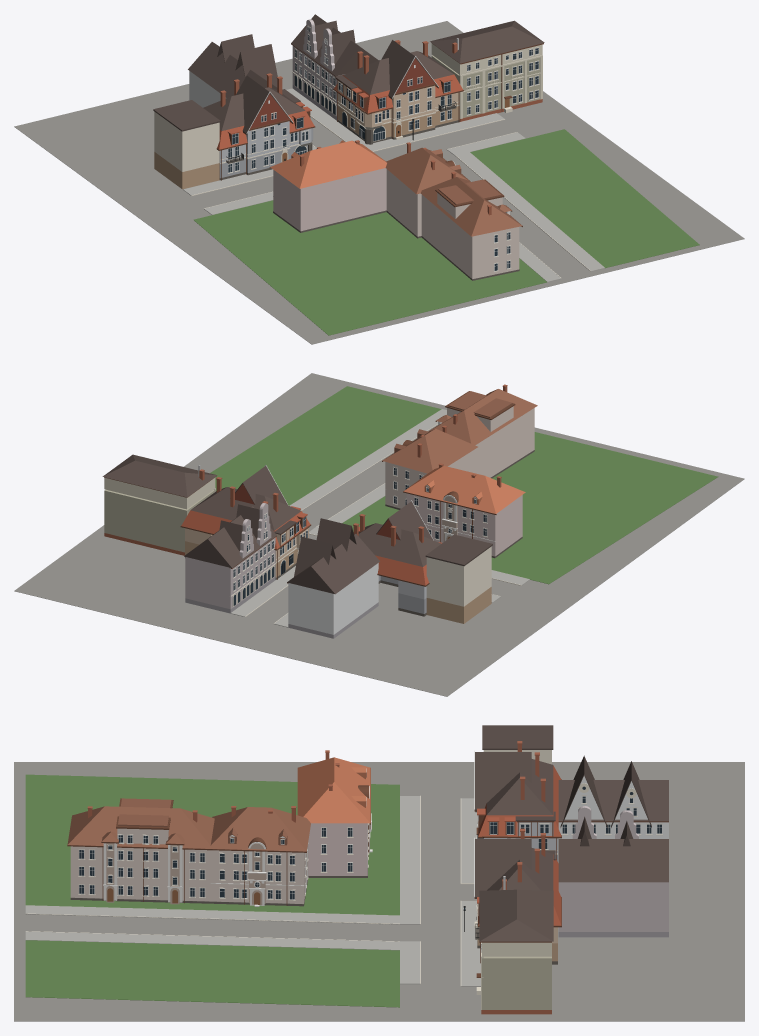
Rendered from skrzyzowanie.glb.
3 views of the same model, one above another, from view 1: azimuth 30°, elevation 25°; view 2: azimuth 150°, elevation 25°; view 3: azimuth 270°, elevation 25° (orthographic). The views are drawn at different scales.
Visible parts, largest first — view 1: Streets, Mickiewicza_45, Mickiewicza_42, Mickiewicza_43, Kochanowskiego_79b_79c, Mickiewicza_47, Mickiewicza_49, Kochanowskiego_76, Kochanowskiego_75, Kochanowskiego_79a; view 2: Streets, Kochanowskiego_75, Mickiewicza_43, Mickiewicza_42, Kochanowskiego_76, Kochanowskiego_79b_79c, Mickiewicza_45, Mickiewicza_47, Mickiewicza_49, Kochanowskiego_79a; view 3: Streets, Kochanowskiego_79b_79c, Kochanowskiego_76, Kochanowskiego_79a, Mickiewicza_43, Mickiewicza_42, Mickiewicza_47, Kochanowskiego_75, Mickiewicza_45, Mickiewicza_49.
Boxes of the visible parts, x1=… form: Streets: x1=14, y1=21, x2=744, y2=344; Mickiewicza_45: x1=333, y1=40, x2=463, y2=144; Mickiewicza_42: x1=269, y1=140, x2=386, y2=232; Mickiewicza_43: x1=430, y1=20, x2=544, y2=121; Kochanowskiego_79b_79c: x1=420, y1=172, x2=522, y2=280; Mickiewicza_47: x1=203, y1=73, x2=315, y2=180; Mickiewicza_49: x1=153, y1=100, x2=220, y2=189; Kochanowskiego_76: x1=291, y1=14, x2=378, y2=120; Kochanowskiego_75: x1=188, y1=34, x2=277, y2=107; Kochanowskiego_79a: x1=385, y1=142, x2=469, y2=238; Streets: x1=14, y1=373, x2=744, y2=696; Kochanowskiego_75: x1=287, y1=518, x2=379, y2=638; Mickiewicza_43: x1=102, y1=454, x2=217, y2=555; Mickiewicza_42: x1=403, y1=463, x2=525, y2=558; Kochanowskiego_76: x1=184, y1=503, x2=276, y2=613; Kochanowskiego_79b_79c: x1=428, y1=384, x2=537, y2=478; Mickiewicza_45: x1=180, y1=465, x2=311, y2=579; Mickiewicza_47: x1=353, y1=500, x2=441, y2=616; Mickiewicza_49: x1=425, y1=534, x2=492, y2=623; Kochanowskiego_79a: x1=382, y1=425, x2=477, y2=509; Streets: x1=14, y1=762, x2=744, y2=1021; Kochanowskiego_79b_79c: x1=67, y1=798, x2=214, y2=904; Kochanowskiego_76: x1=558, y1=806, x2=668, y2=937; Kochanowskiego_79a: x1=210, y1=806, x2=310, y2=906; Mickiewicza_43: x1=476, y1=876, x2=553, y2=1014; Mickiewicza_42: x1=297, y1=750, x2=372, y2=877; Mickiewicza_47: x1=474, y1=741, x2=561, y2=861; Kochanowskiego_75: x1=558, y1=755, x2=668, y2=838; Mickiewicza_45: x1=474, y1=828, x2=561, y2=964; Mickiewicza_49: x1=482, y1=725, x2=553, y2=764.
Bounding box in the file's own units: 105 × 19.65 × 125.
